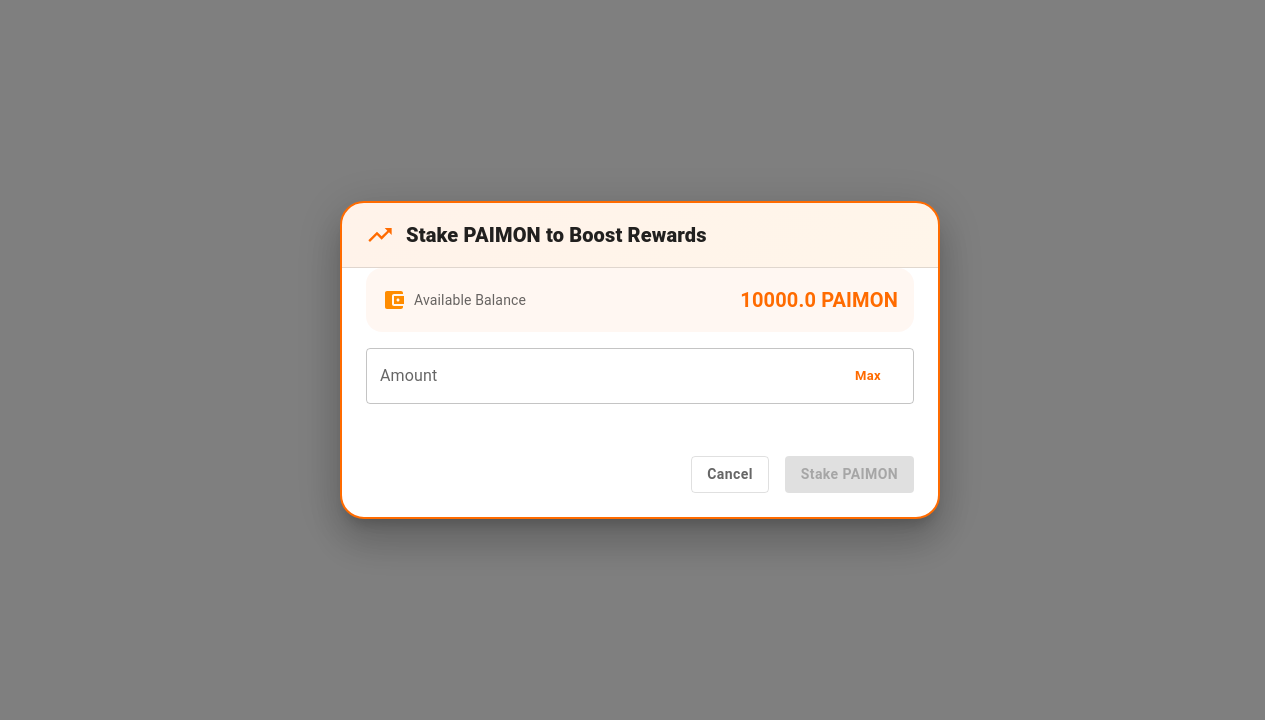
Test case: BoostStakeModal Component › Boundary: Edge Cases › shows cap warning when exceeding 5000
Type "6000" into the field labelled "Amount" at coordinates (597, 376), box x1=366 y1=348 x2=828 y2=404
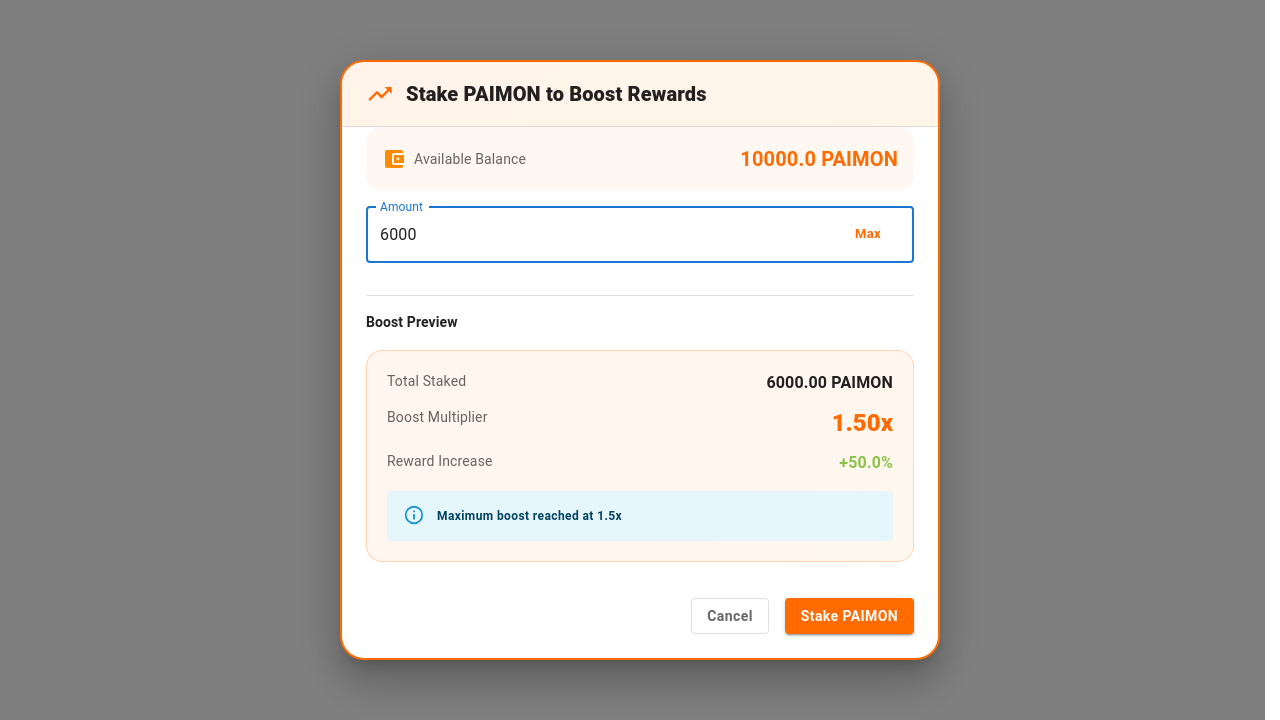
Now the text "Maximum boost reached at 1.5x" is shown, box x1=437 y1=509 x2=622 y2=523
